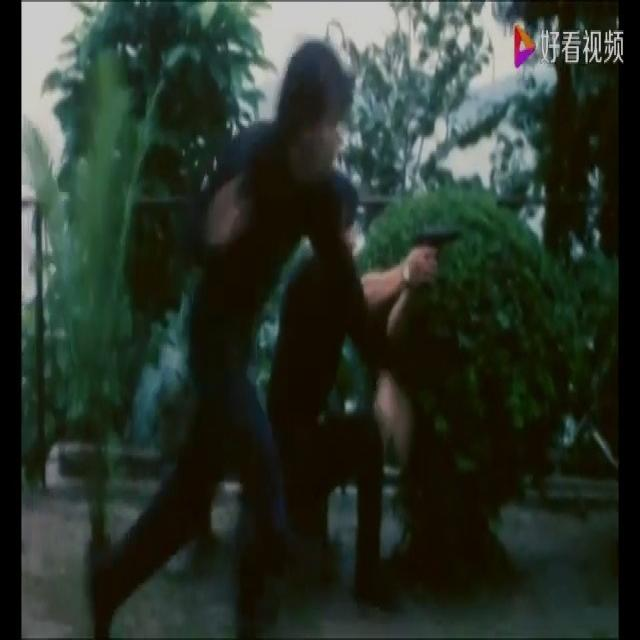non-fight: (70, 34, 393, 640), (271, 167, 446, 621)
